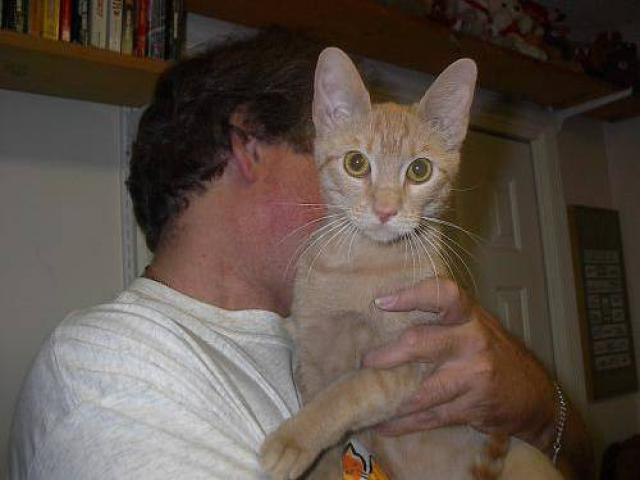cat: (276, 43, 514, 480)
